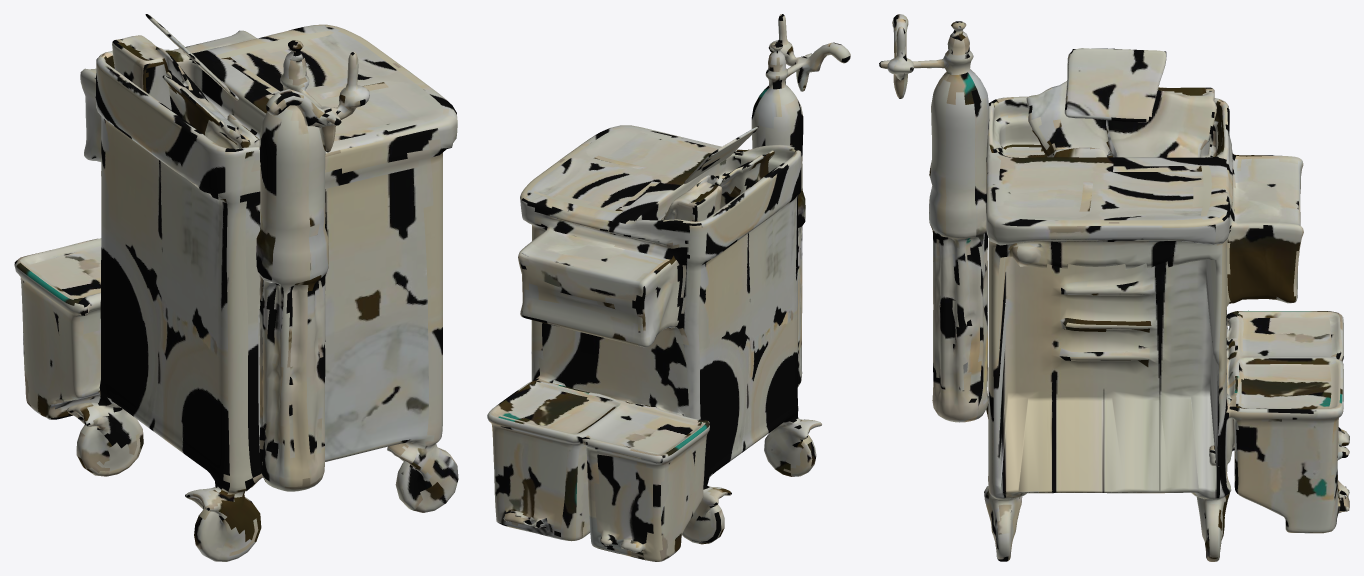
The model's file is 急救車3-改1.fbx.
3 renders of one model, left to right at view 1: azimuth 30°, elevation 25°; view 2: azimuth 150°, elevation 25°; view 3: azimuth 270°, elevation 25°, orthographic. The views are drawn at different scales.
Parts seen in each view (by area): view 1: tripo_node_d1a536d3-7818-4e71-9b03-9f1a8ac04b09; view 2: tripo_node_d1a536d3-7818-4e71-9b03-9f1a8ac04b09; view 3: tripo_node_d1a536d3-7818-4e71-9b03-9f1a8ac04b09.
Part boxes in pixels (x1,y1,x2,y2): tripo_node_d1a536d3-7818-4e71-9b03-9f1a8ac04b09: (14, 14, 458, 561); tripo_node_d1a536d3-7818-4e71-9b03-9f1a8ac04b09: (487, 14, 850, 561); tripo_node_d1a536d3-7818-4e71-9b03-9f1a8ac04b09: (879, 14, 1349, 561).
Size of the model in its own units: 48.04 by 90.57 by 81.23.
